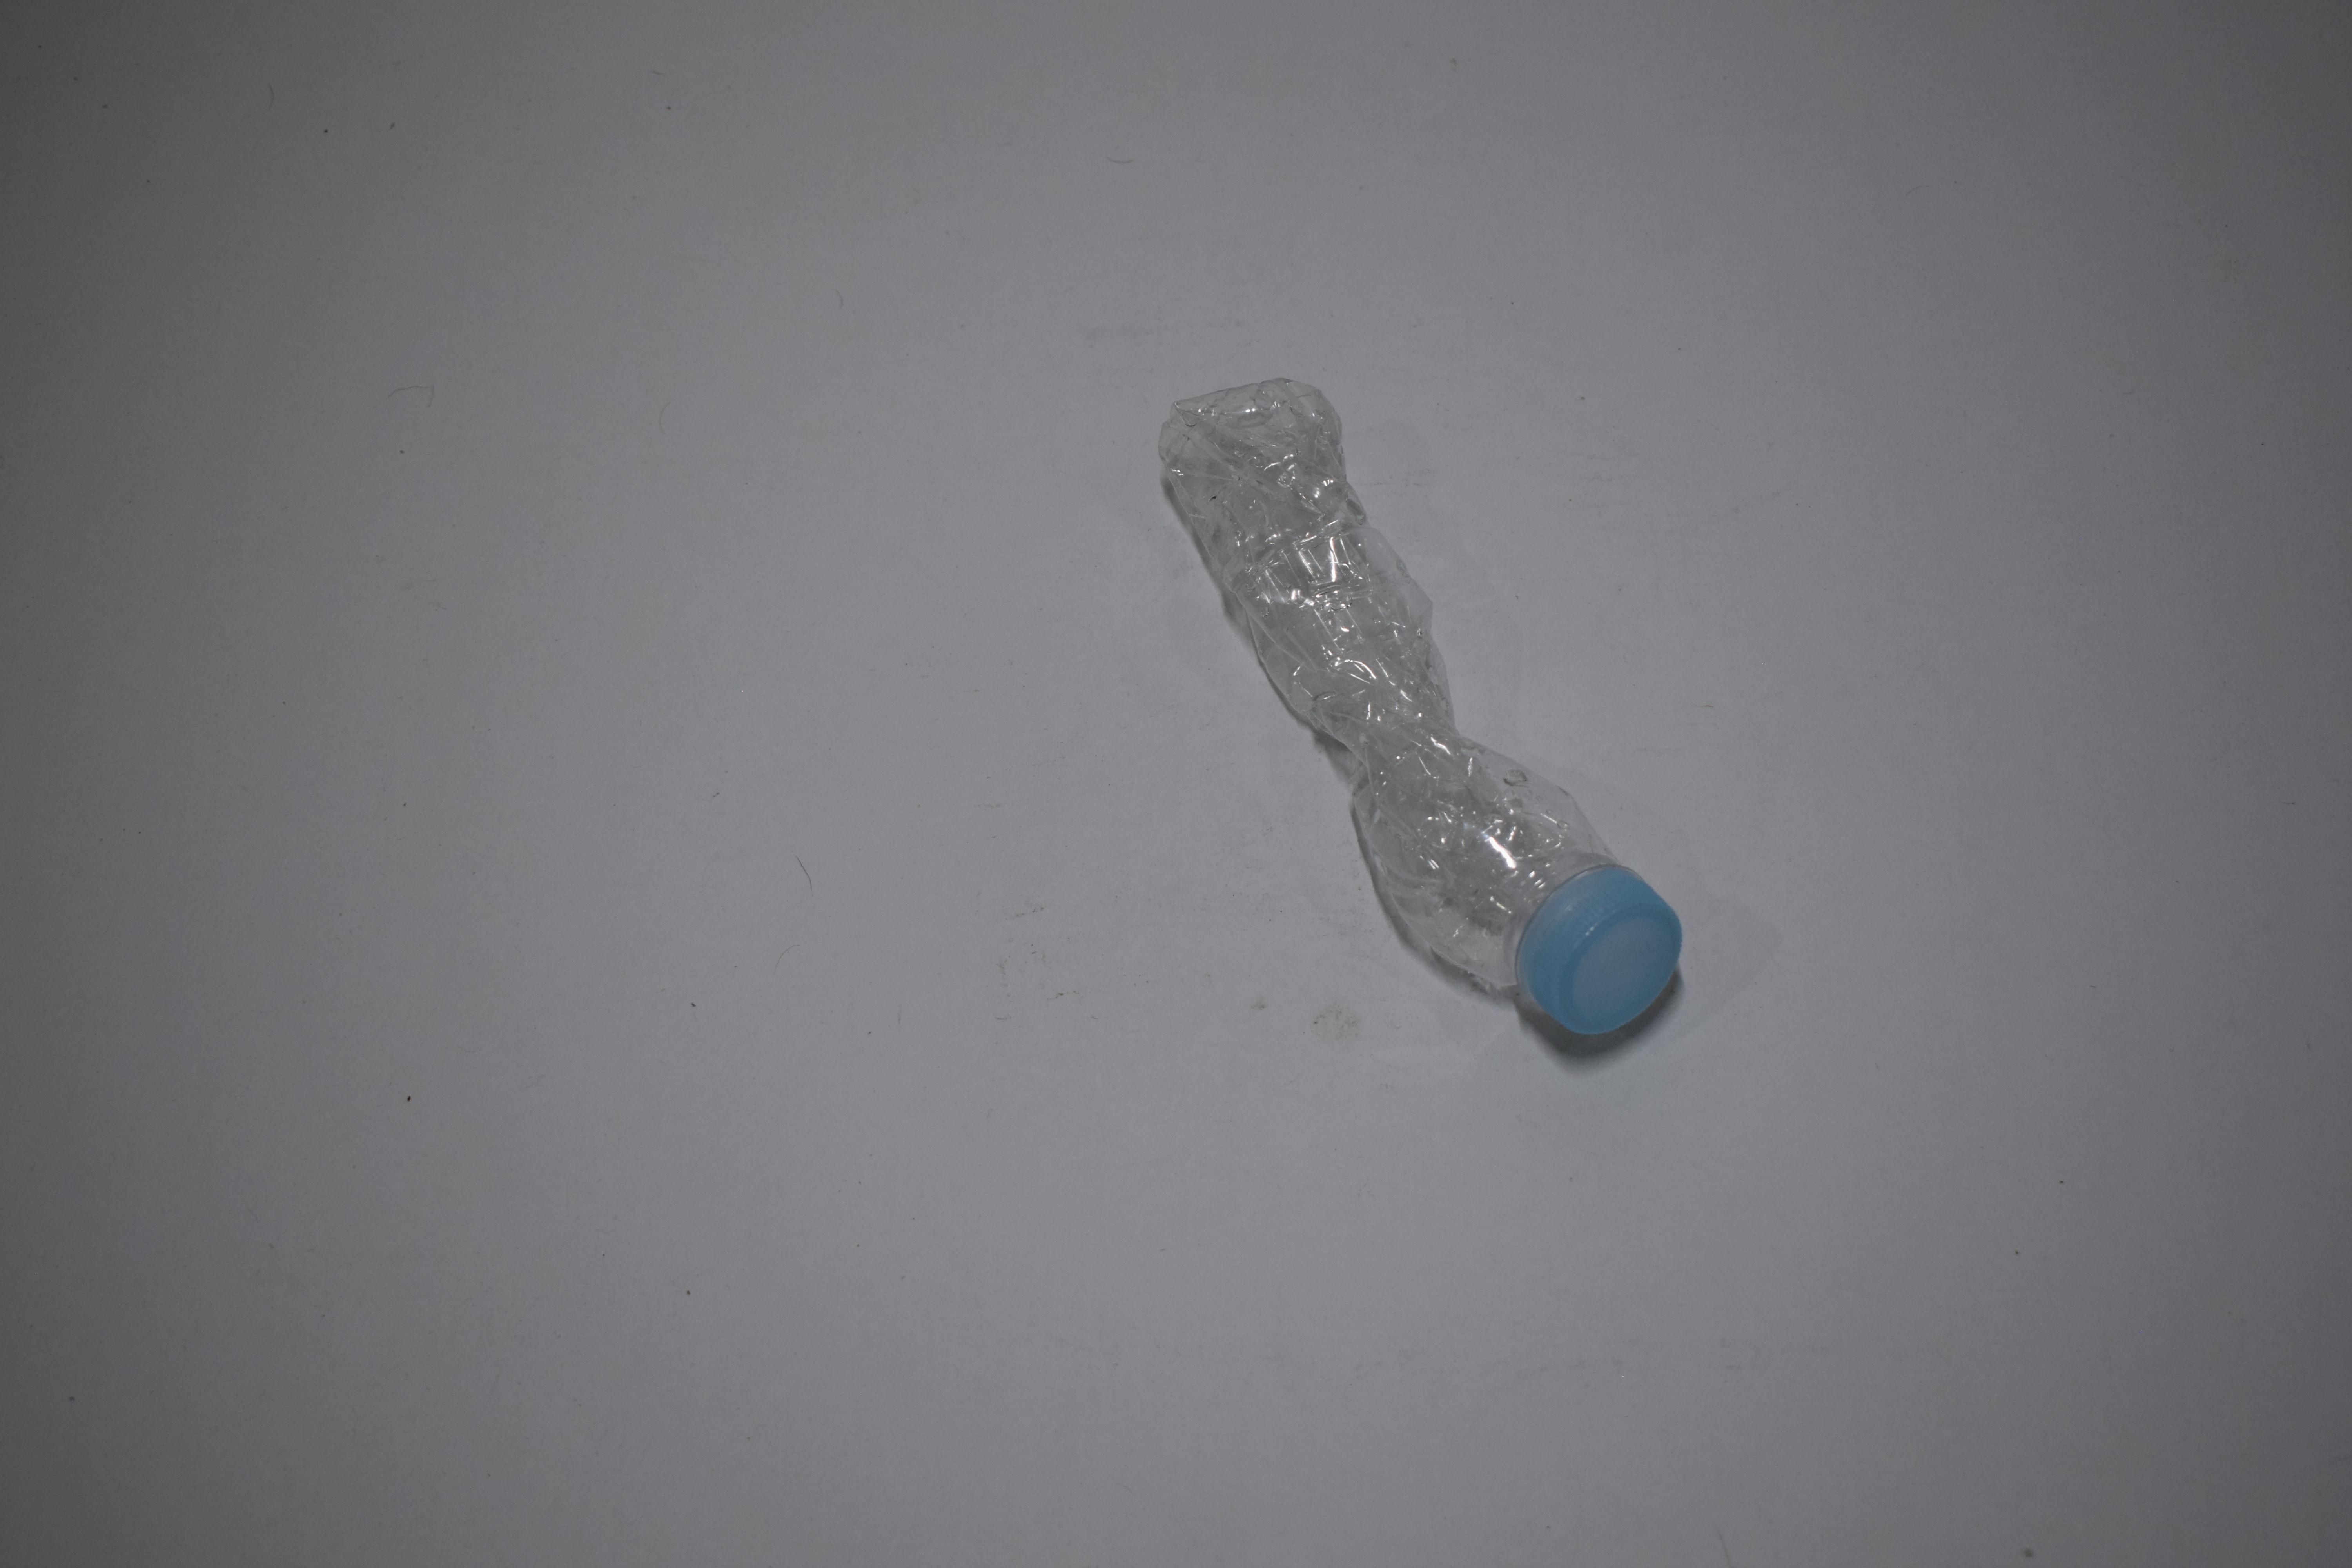bottle: (1145, 290, 1685, 975)
